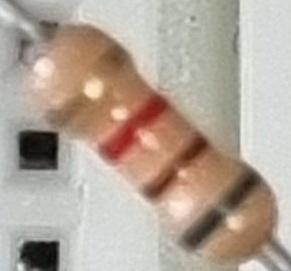Brown: (137, 132, 211, 203)
Green: (175, 169, 263, 259)
Red: (90, 94, 168, 169)
Side-Gold: (40, 43, 129, 132)
